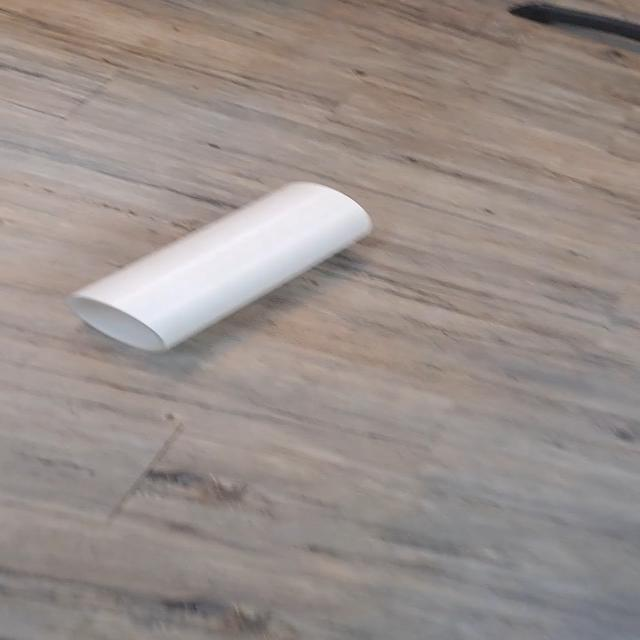CORAL: (54, 170, 388, 380)
